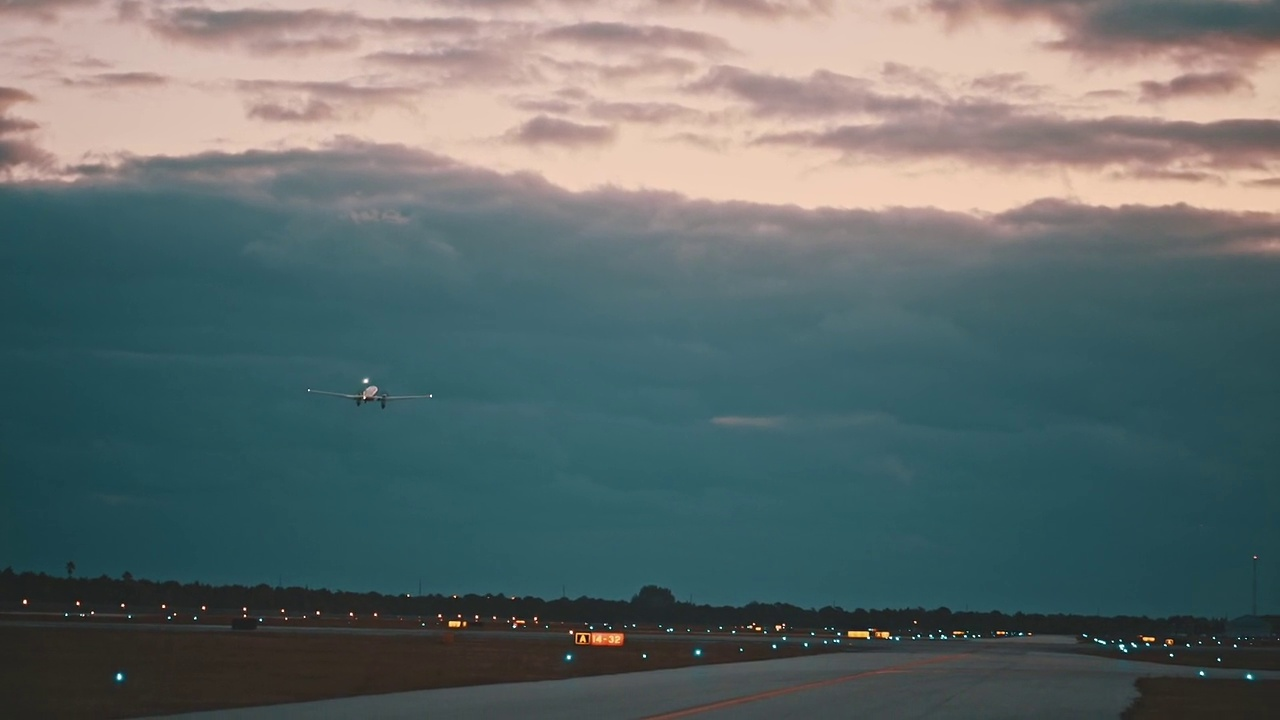plane: (306, 378, 432, 409)
